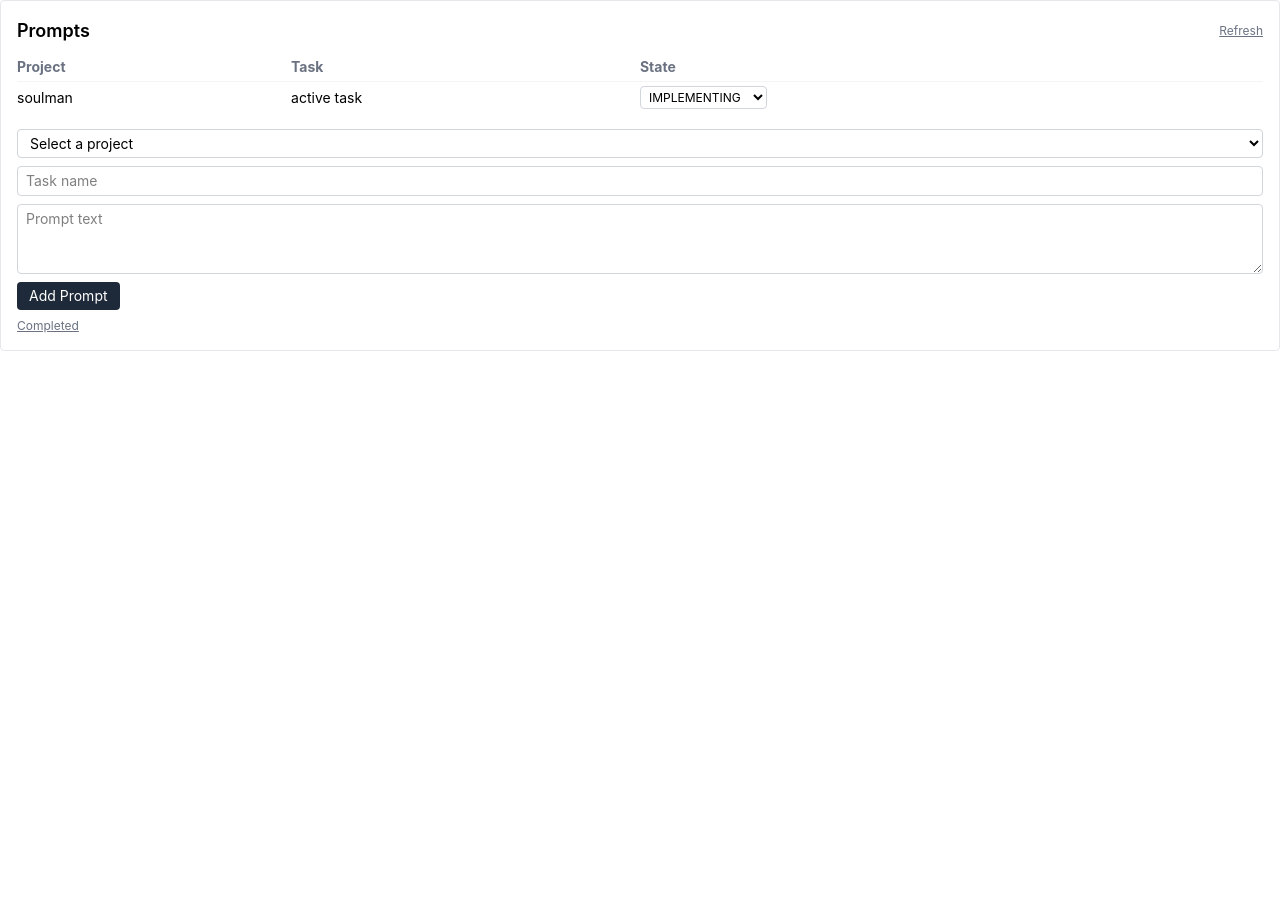
Test: PromptsPanel › opens the CompletedPromptsModal showing a DONE prompt when Completed is clicked
The image size is (1280, 900).
What coordinates should you click on to do the following:
click the button "Completed"
I would click on:
 (48, 326)
Its box is 17,318 -> 79,334.
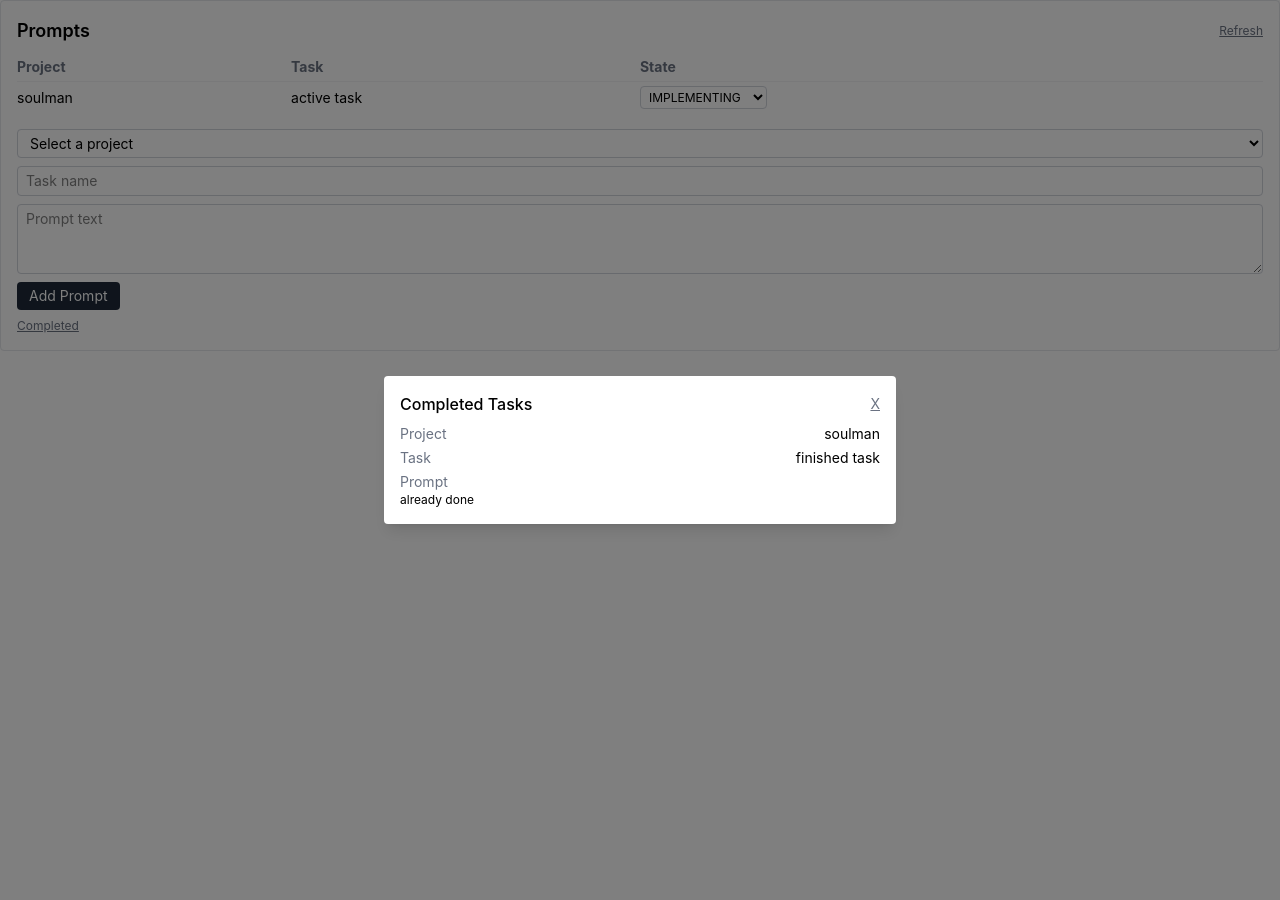
Check: the text "finished task" is shown, box 796,448 -> 880,468
Check: the heading "Completed Tasks" is shown, box 400,392 -> 532,416
